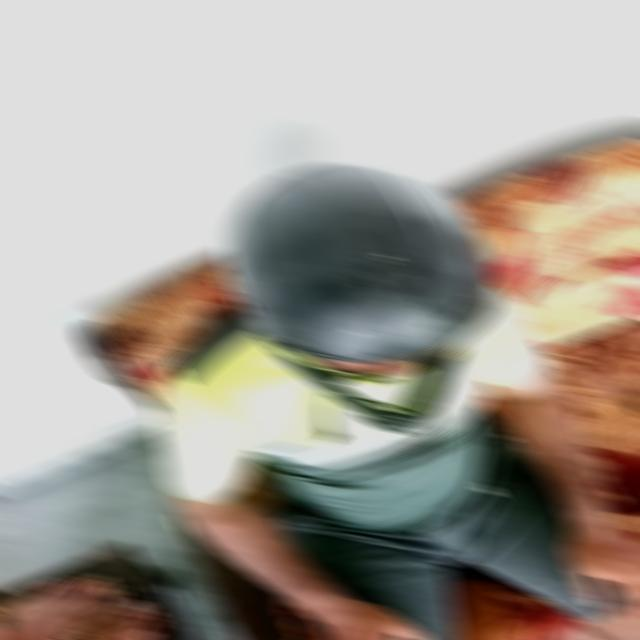With Helmet: (222, 160, 499, 438)
